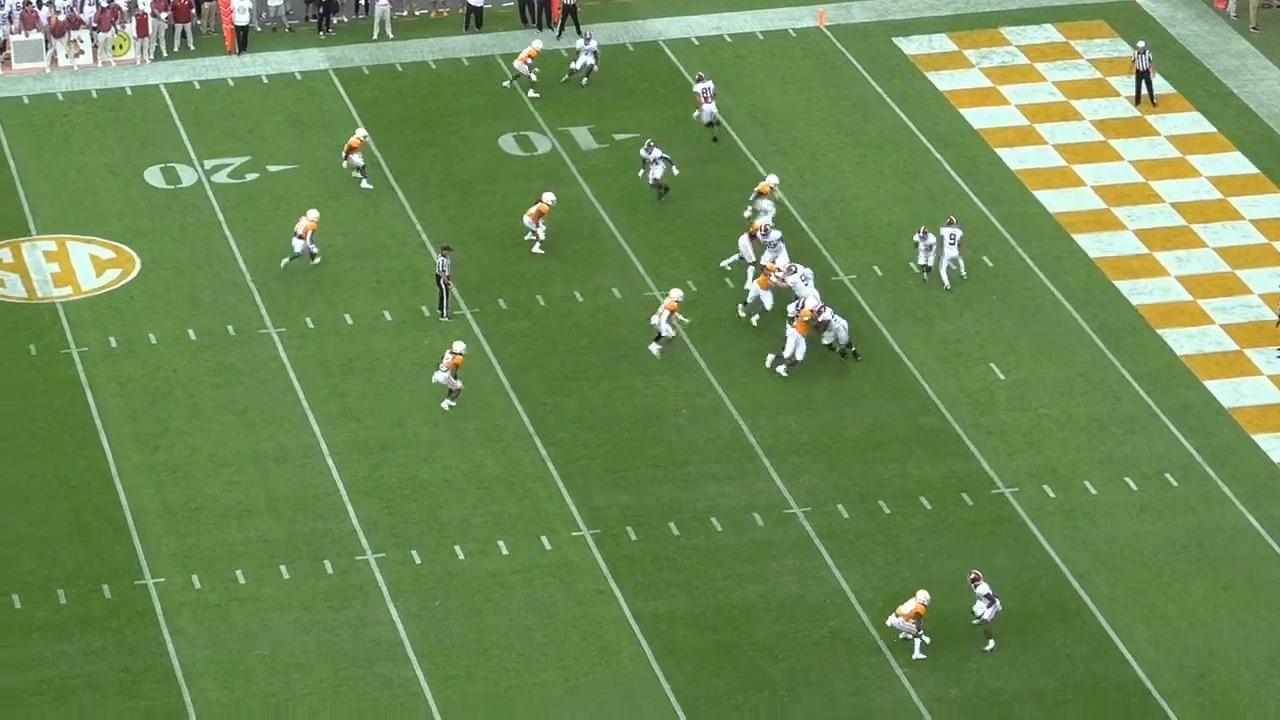defense: (766, 298, 826, 382), (730, 257, 785, 330), (887, 585, 936, 666), (647, 284, 693, 362), (716, 218, 773, 276), (274, 207, 321, 274), (431, 335, 469, 413), (502, 36, 548, 100), (524, 190, 563, 259), (339, 123, 373, 194), (736, 171, 781, 221)
oline: (809, 303, 864, 368), (750, 215, 791, 268), (782, 296, 823, 346), (776, 264, 822, 299), (765, 254, 813, 287)
qb: (933, 212, 969, 293)
ref: (426, 242, 455, 325), (1131, 36, 1161, 111), (552, 1, 583, 45)
skill: (960, 567, 1004, 659), (634, 138, 679, 204), (691, 66, 727, 143), (562, 33, 605, 92), (905, 226, 935, 294)
